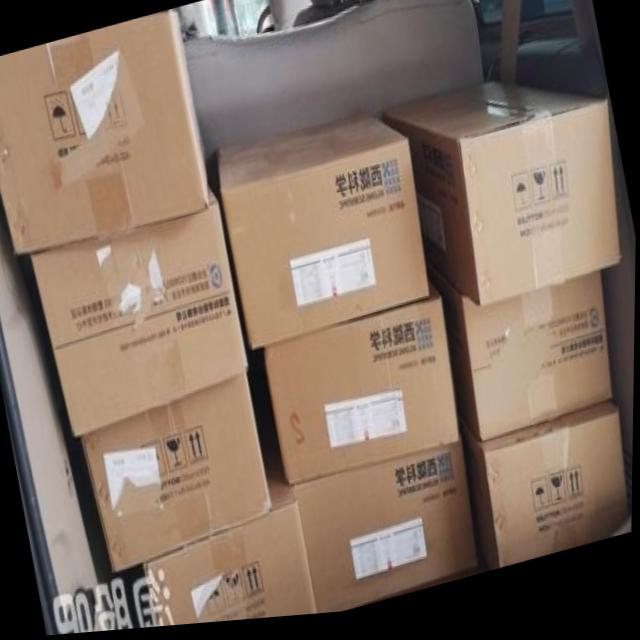box: (31, 189, 251, 442), (381, 87, 622, 315), (218, 115, 432, 356), (0, 10, 208, 255), (263, 281, 461, 490), (81, 376, 275, 576), (427, 269, 613, 450), (295, 450, 482, 619), (458, 412, 632, 582), (146, 460, 319, 629)
